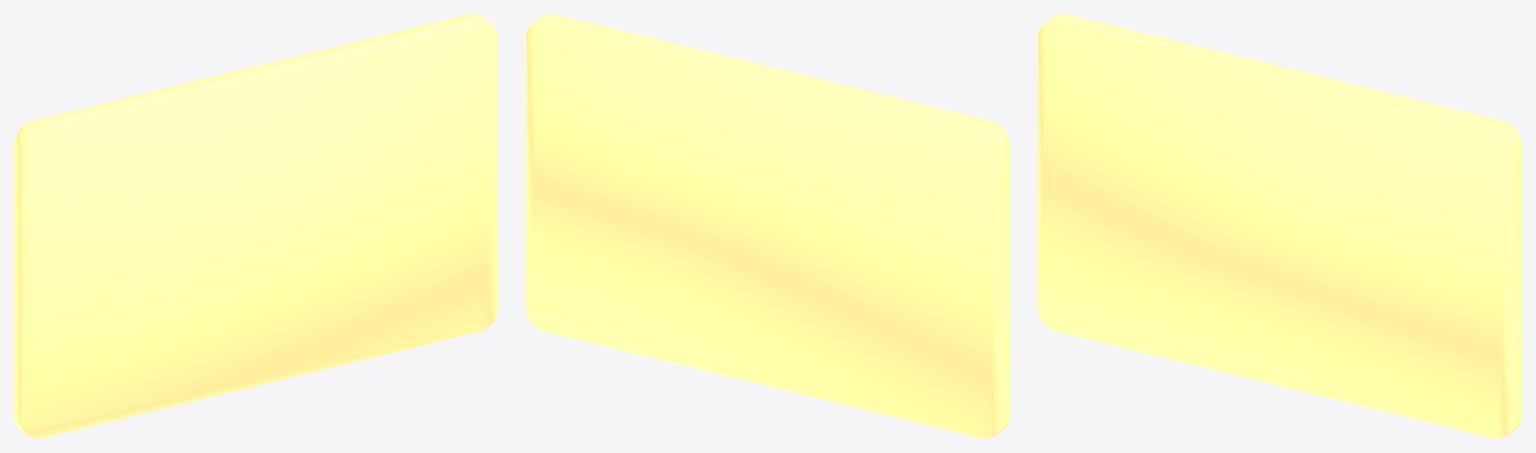
The model's file is membership.glb.
3 renders of one model, left to right at view 1: azimuth 30°, elevation 25°; view 2: azimuth 150°, elevation 25°; view 3: azimuth 330°, elevation 25°, orthographic.
Parts seen in each view (by area): view 1: CARD | GOLD; view 2: CARD | GOLD; view 3: CARD | GOLD.
Boxes of the visible parts, bbox=[...] form: CARD | GOLD: bbox=[14, 14, 497, 438]; CARD | GOLD: bbox=[526, 14, 1009, 438]; CARD | GOLD: bbox=[1038, 14, 1521, 438].
Size of the model in its own units: 3.2 by 2 by 0.12.
